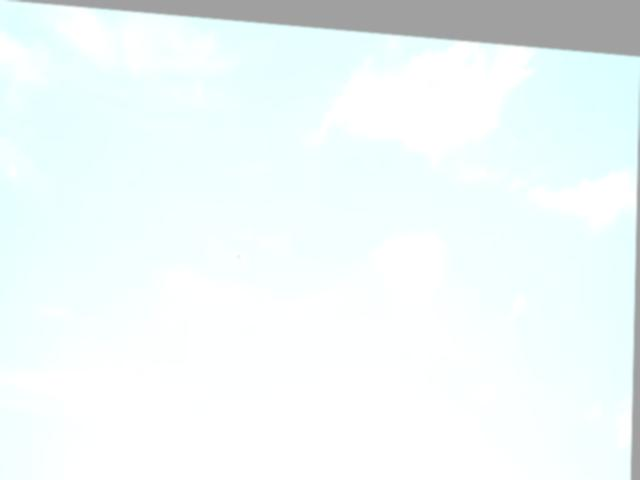plane: (236, 249, 246, 257)
